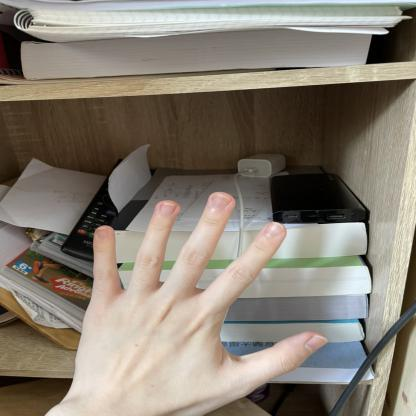bare_hand: (55, 185, 334, 415)
